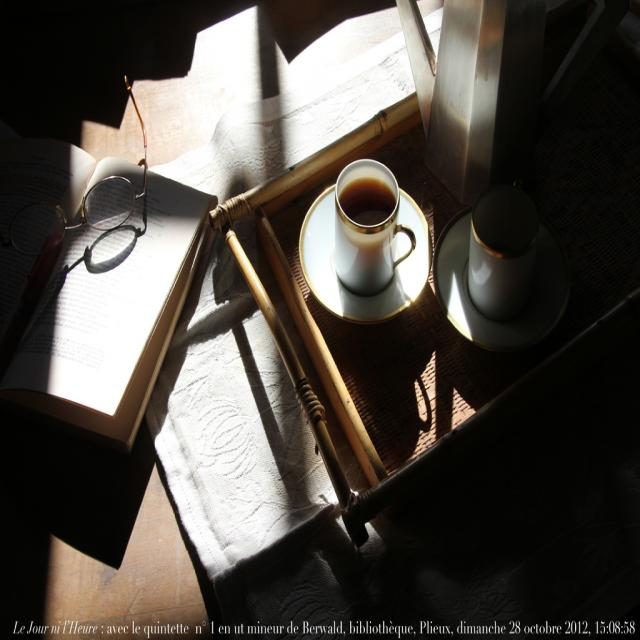Coffee: (341, 177, 393, 223)
Tea: (338, 178, 398, 226)
